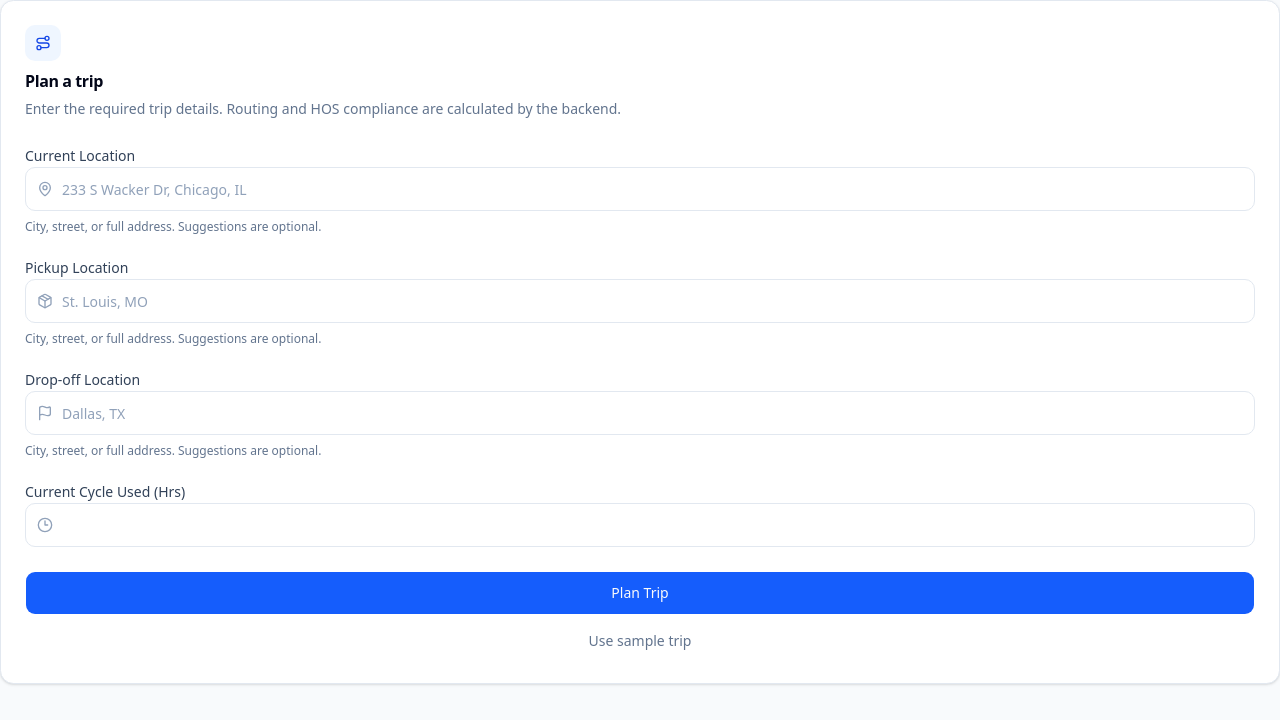
TripPlannerForm › fills the sample trip without submitting it
Click the button "Use sample trip". click: (640, 641)
box: [25, 623, 1255, 659]
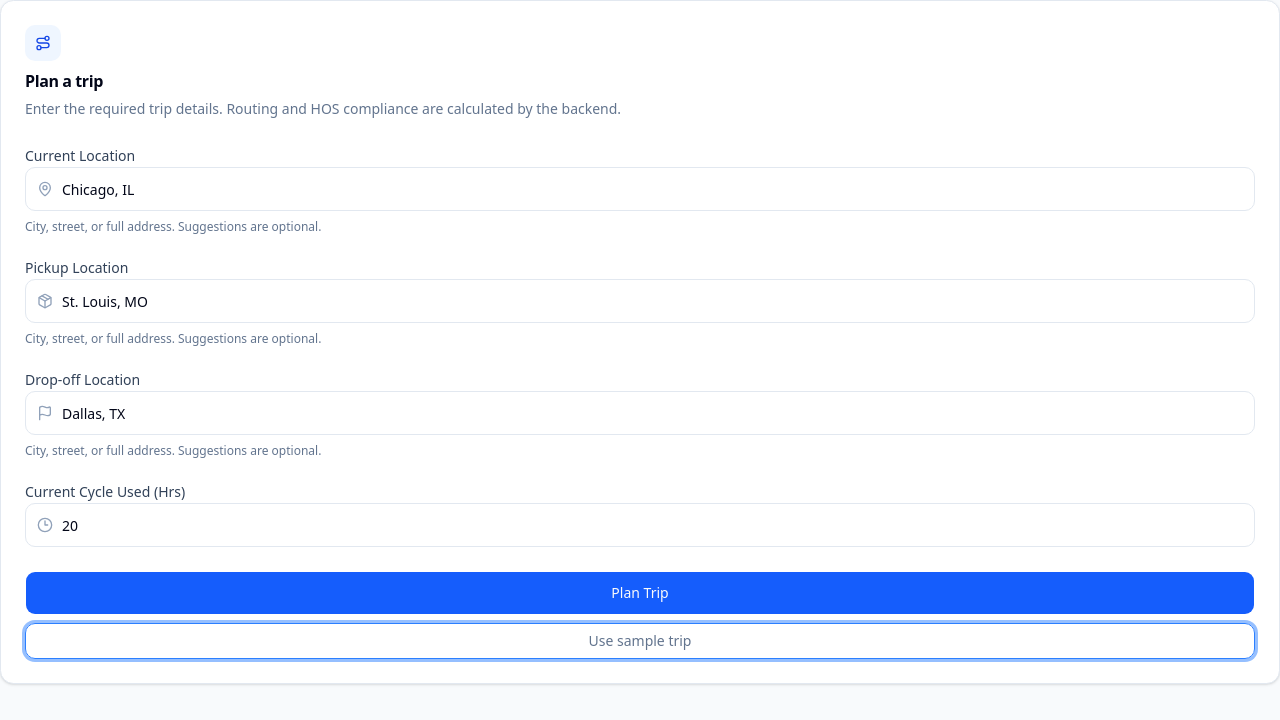
Expected: the dropdown labelled "Current Location" holds "Chicago, IL", [25, 167, 1255, 211]
Expected: the dropdown labelled "Pickup Location" holds "St. Louis, MO", [25, 279, 1255, 323]
Expected: the dropdown labelled "Drop-off Location" holds "Dallas, TX", [25, 391, 1255, 435]
